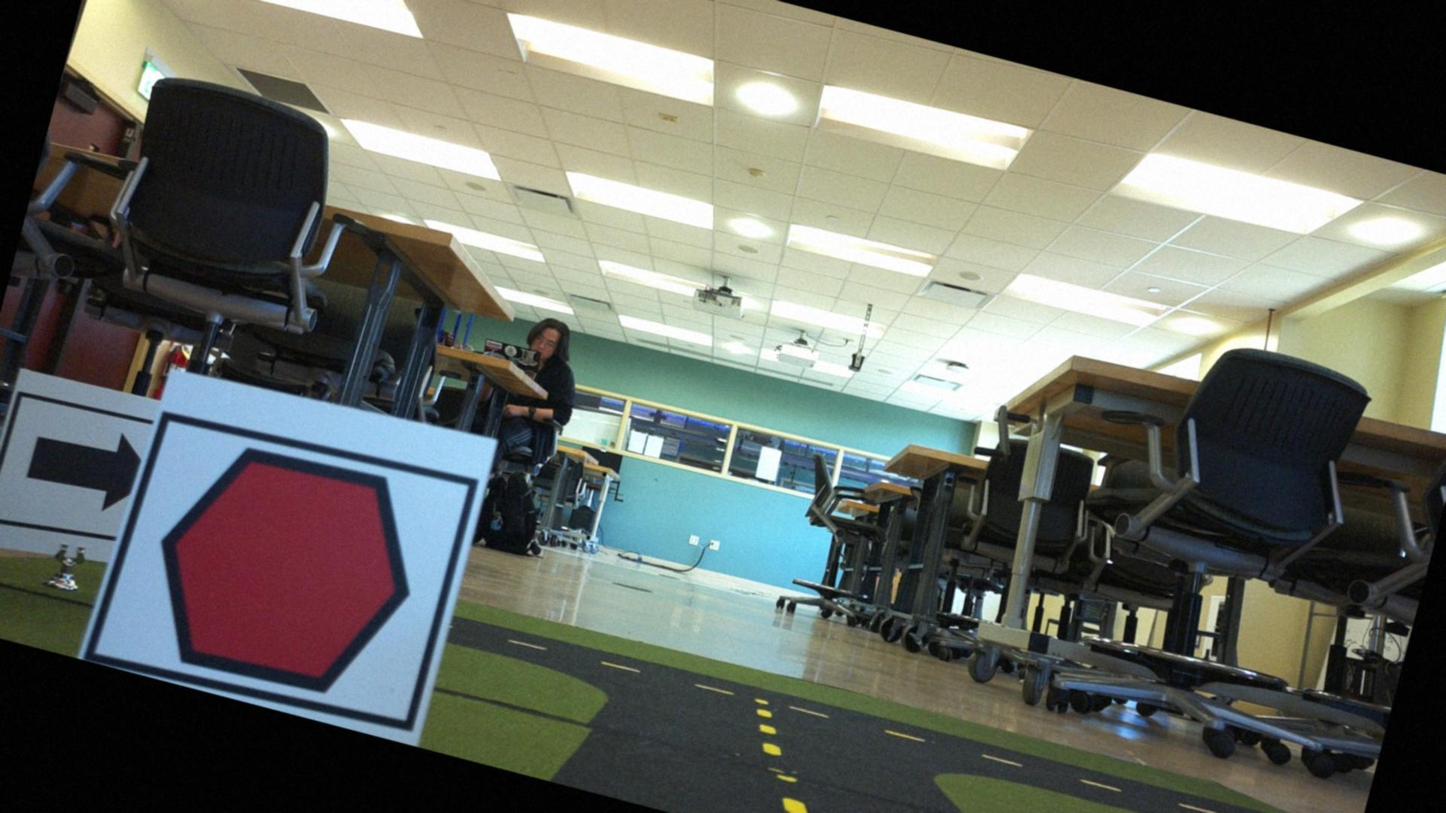stop: (115, 413, 456, 729)
yellowline: (746, 705, 798, 764), (767, 772, 832, 812)
